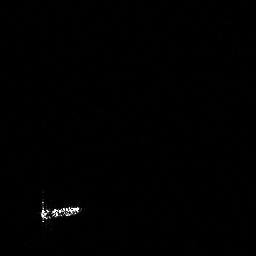ship: (35, 195, 84, 224)
